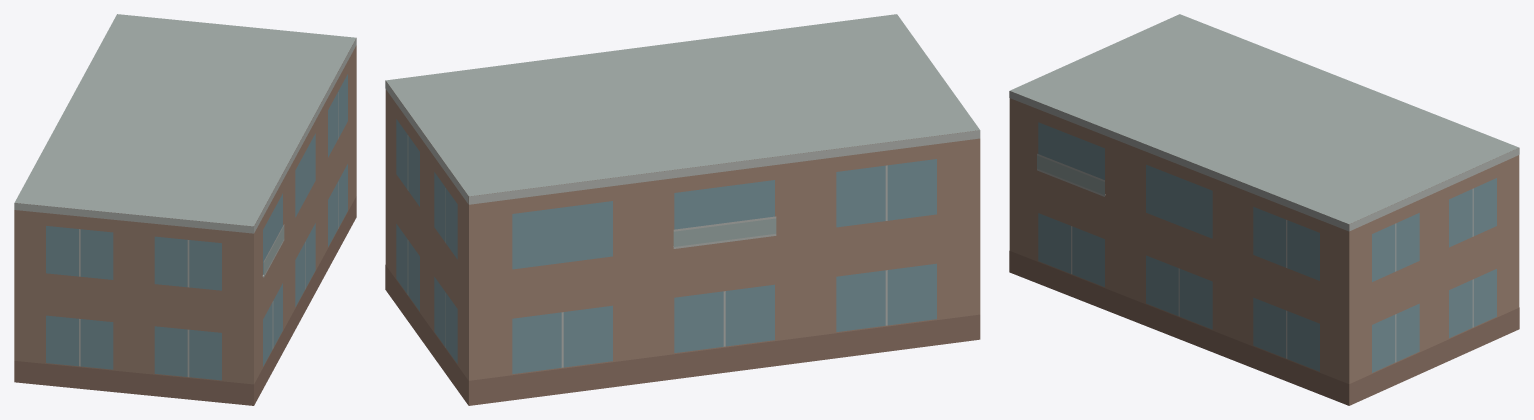
The model's file is survey-upis-32974405.glb.
3 renders of one model, left to right at view 1: azimuth 30°, elevation 25°; view 2: azimuth 150°, elevation 25°; view 3: azimuth 270°, elevation 25°, orthographic. The views are drawn at different scales.
Visible parts, largest first — view 1: survey-upis-32974405.tmp; view 2: survey-upis-32974405.tmp; view 3: survey-upis-32974405.tmp.
Part boxes in pixels (<box>): survey-upis-32974405.tmp: <box>14,14,356,405</box>; survey-upis-32974405.tmp: <box>385,14,980,405</box>; survey-upis-32974405.tmp: <box>1009,14,1519,405</box>.
Bounding box in the file's own units: 15.16 × 6.1 × 15.53.
